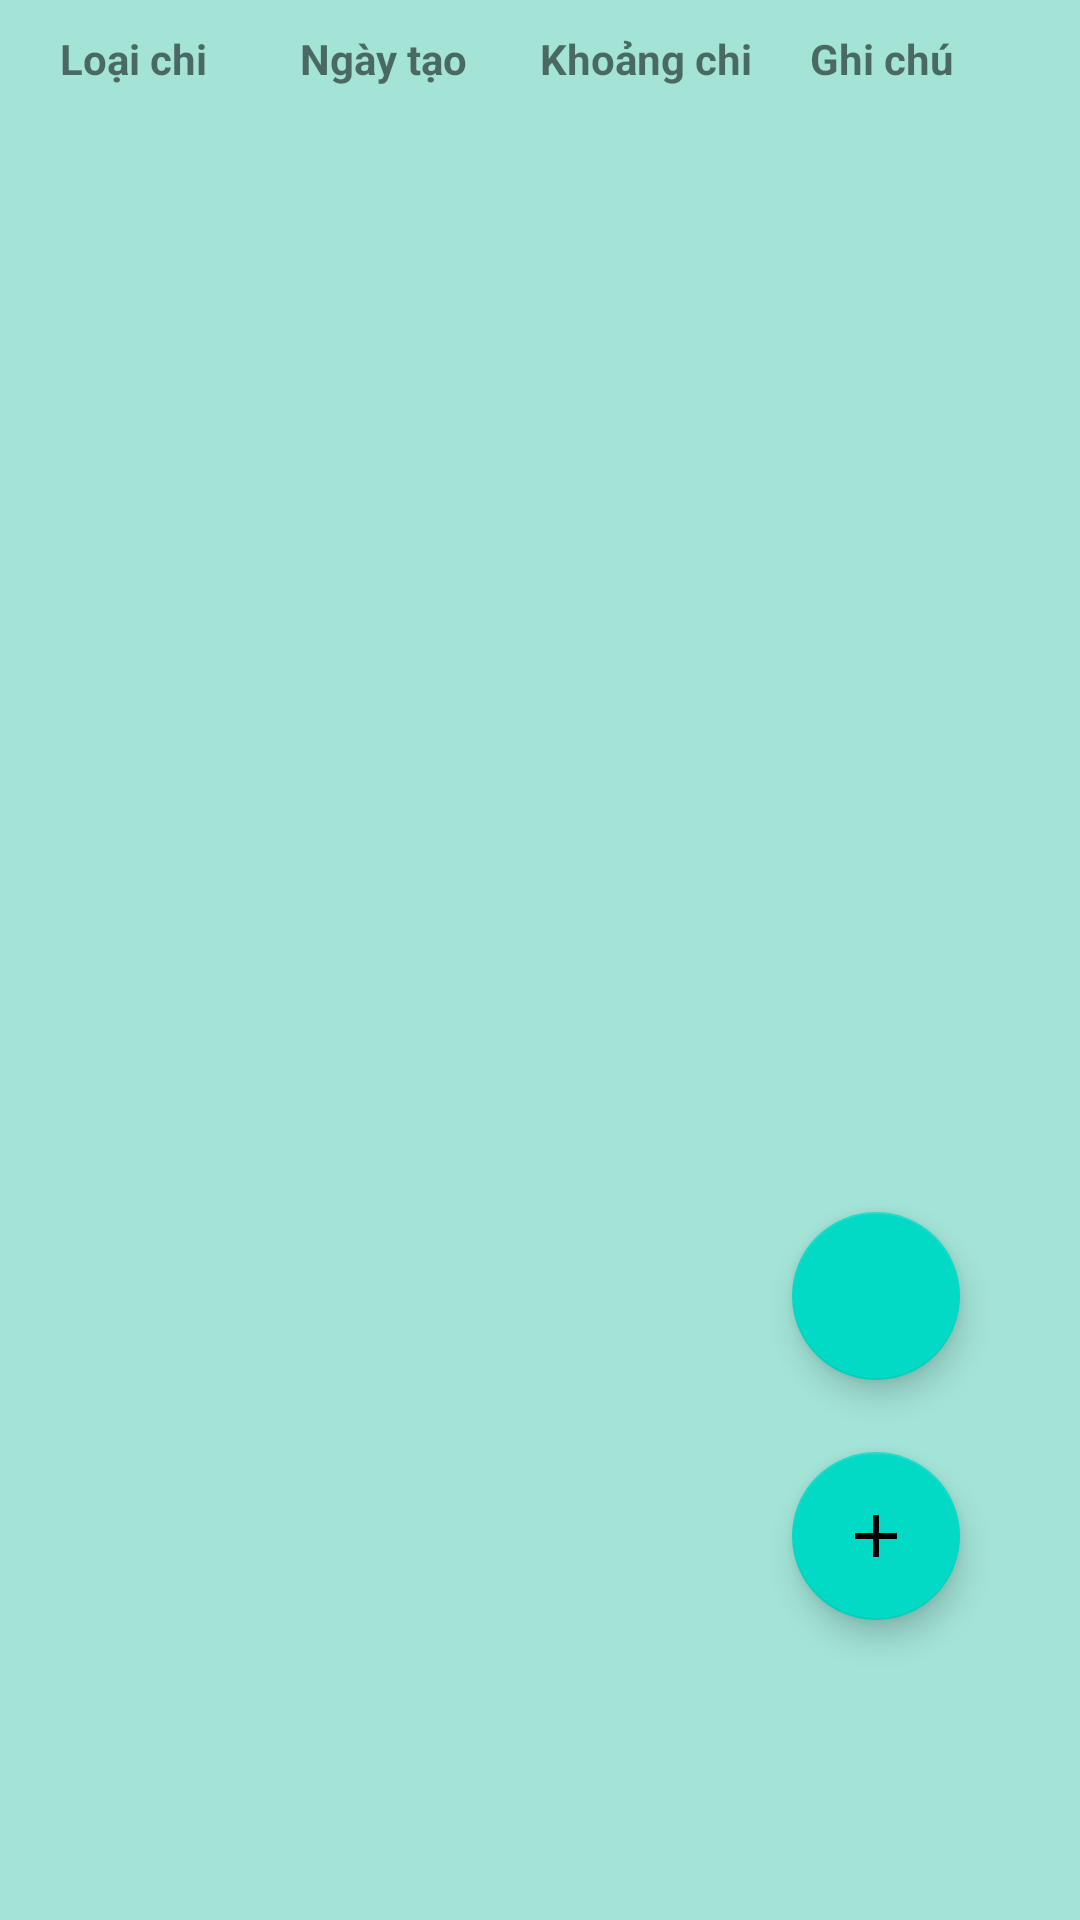

Screen size 1080px x 1920px. Icon name, then its center in pixels as point (x, y):
add: point (876, 1536)
